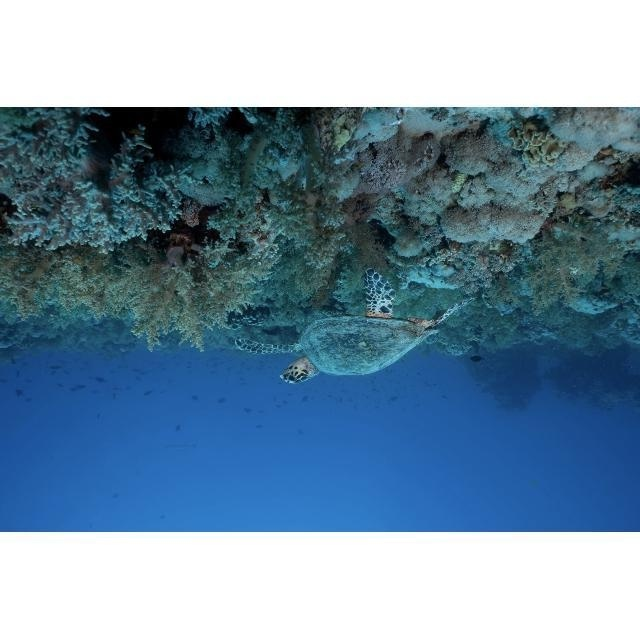turtle: (233, 268, 474, 385)
